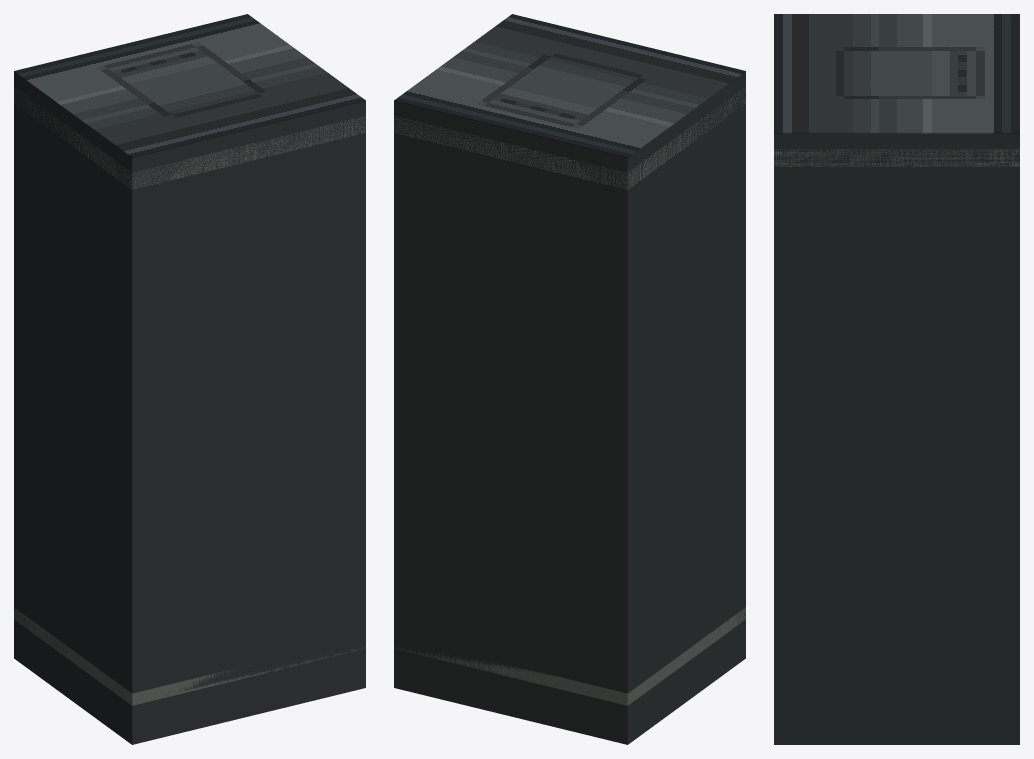
Rendered from CMU3DInteriorVehicleTankTankBack2.glb.
3 views of the same model, side by side, from view 1: azimuth 30°, elevation 25°; view 2: azimuth 150°, elevation 25°; view 3: azimuth 270°, elevation 25° (orthographic). The views are drawn at different scales.
Parts seen in each view (by area): view 1: cabin bulkhead, cabin bulkhead source finish, upper armor trim, lower armor trim; view 2: cabin bulkhead, cabin bulkhead source finish, upper armor trim, lower armor trim; view 3: cabin bulkhead, cabin bulkhead source finish, upper armor trim.
Boxes of the visible parts, x1,y1,x2,y2 form: cabin bulkhead: (14,72,365,744); cabin bulkhead source finish: (14,14,365,157); upper armor trim: (14,87,365,189); lower armor trim: (14,607,365,705); cabin bulkhead: (394,72,745,744); cabin bulkhead source finish: (394,14,745,157); upper armor trim: (394,88,745,189); lower armor trim: (394,607,745,705); cabin bulkhead: (774,133,1019,744); cabin bulkhead source finish: (774,14,1019,133); upper armor trim: (774,149,1019,166).
Size of the model in its own units: 1 by 2.4 by 0.875.
Materials: 4 (1 with a texture image).
